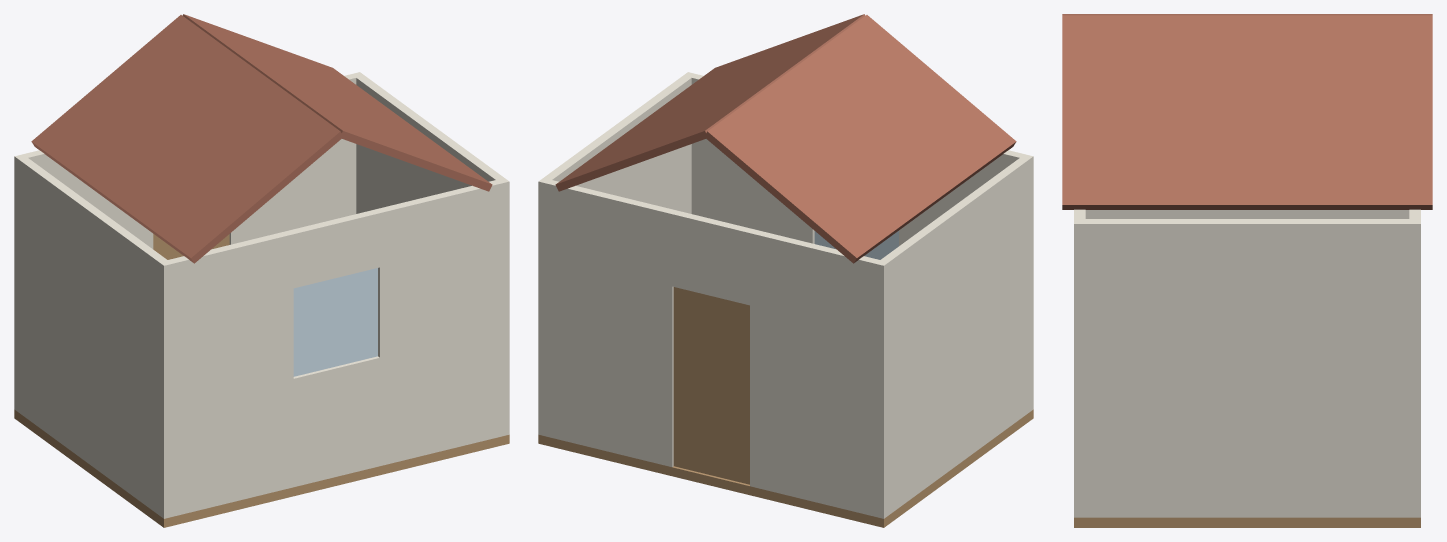
File: simple_house.glb
The picture shows the model from 3 angles, left to right: view 1: azimuth 30°, elevation 25°; view 2: azimuth 150°, elevation 25°; view 3: azimuth 270°, elevation 25°; orthographic projection. The views are drawn at different scales.
Visible parts, largest first — view 1: back_wall, left_wall, left_pitch, right_pitch, front_wall, window_pane, right_wall, floor; view 2: front_wall, left_wall, left_pitch, panel, right_pitch, back_wall, right_wall, floor, window_pane; view 3: right_wall, right_pitch, floor, back_wall, front_wall, left_wall, left_pitch.
Boxes of the visible parts, <box> form: back_wall: <box>159,178,509,518</box>; left_wall: <box>14,154,172,518</box>; left_pitch: <box>31,15,343,263</box>; right_pitch: <box>182,14,492,191</box>; front_wall: <box>15,72,364,411</box>; window_pane: <box>293,268,377,376</box>; right_wall: <box>355,72,509,323</box>; floor: <box>14,409,509,527</box>; front_wall: <box>538,178,888,518</box>; left_wall: <box>875,154,1033,518</box>; left_pitch: <box>704,15,1016,263</box>; panel: <box>673,287,749,484</box>; right_pitch: <box>555,14,865,191</box>; back_wall: <box>683,72,1033,408</box>; right_wall: <box>538,72,695,355</box>; floor: <box>538,409,1033,527</box>; window_pane: <box>814,231,898,259</box>; right_wall: <box>1074,219,1420,517</box>; right_pitch: <box>1062,15,1432,209</box>; floor: <box>1074,517,1420,527</box>; back_wall: <box>1074,209,1085,517</box>; front_wall: <box>1409,209,1420,517</box>; left_wall: <box>1085,210,1409,218</box>; left_pitch: <box>1062,14,1432,15</box>.
Size of the model in its own units: 4 by 3.96 by 3.2.
